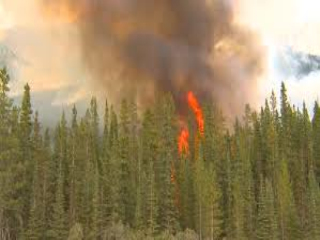fire: (171, 89, 213, 163)
smoke: (102, 3, 256, 117)
